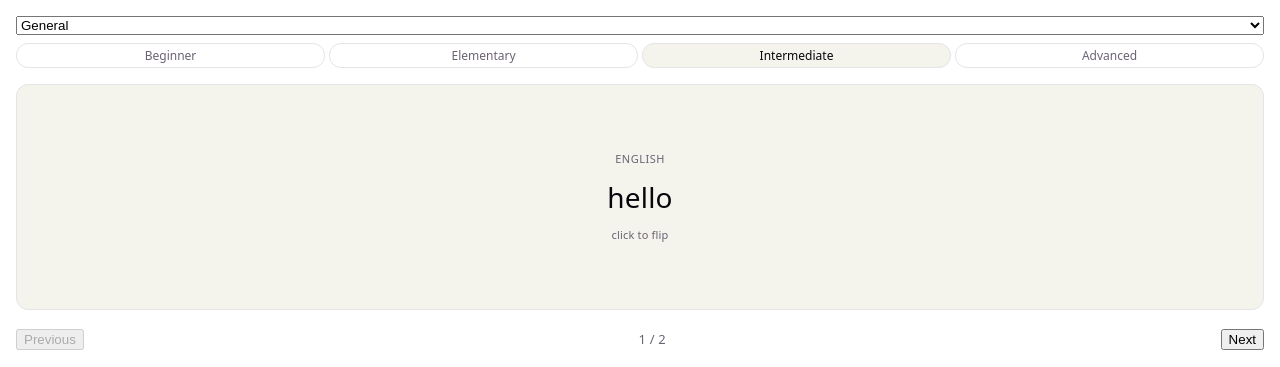
Scenario: FlashcardsView › flips to Spanish when card is clicked
Click the text "hello" at x=640, y=197, box [607,184,673,210]
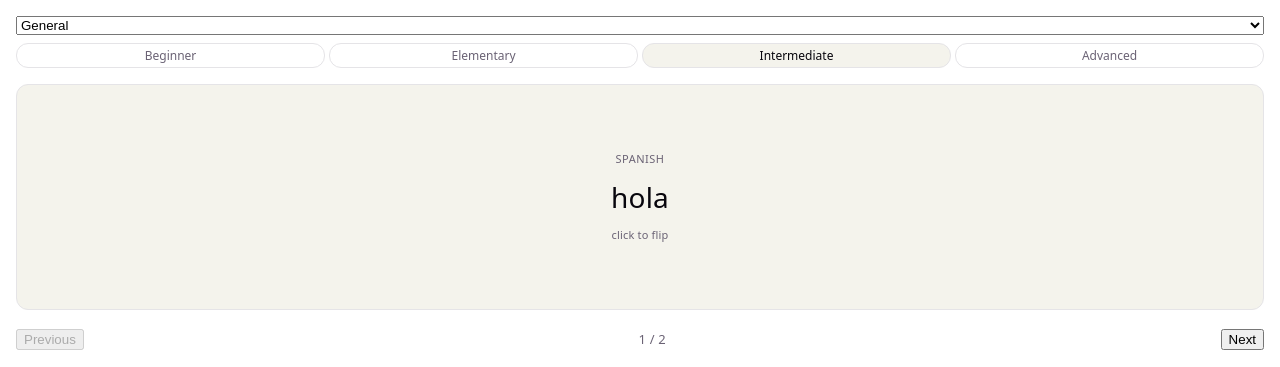
Check: the text "hola" is shown, box [611,184,669,210]
